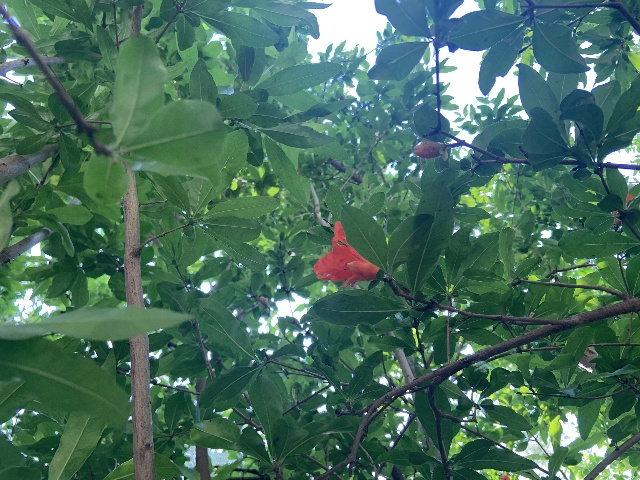bud: (413, 141, 444, 158)
flower: (313, 220, 380, 289)
